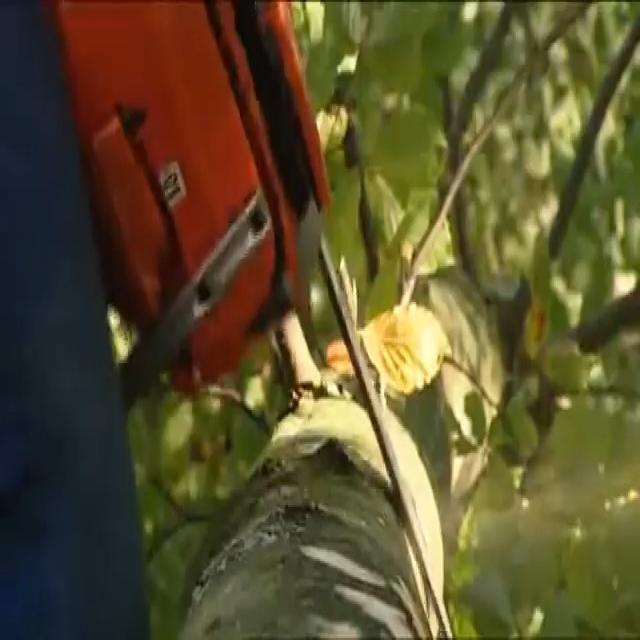Chainsaw: (38, 0, 471, 639)
